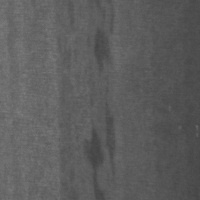inclusion: (83, 77, 118, 200), (91, 1, 121, 91)
